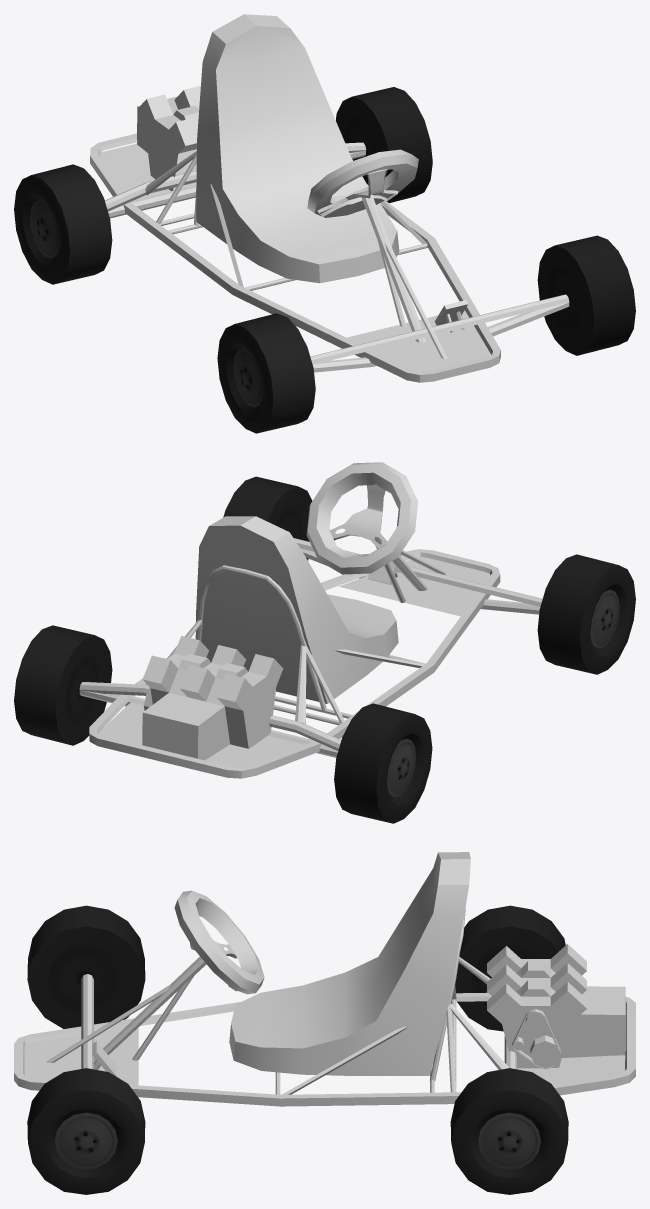
Rendered from lod_0_gltf.gltf.
3 views of the same model, one above another, from view 1: azimuth 30°, elevation 25°; view 2: azimuth 150°, elevation 25°; view 3: azimuth 270°, elevation 25° (orthographic). The views are drawn at different scales.
Visible parts, largest first — view 1: Chasis_0, Wheel_FL_0, Wheel_BR_0, Wheel_FR_0, Wheel_BL_0, rimflat_FR_0, rimflat_BR_0; view 2: Chasis_0, Wheel_BL_0, Wheel_FR_0, Wheel_BR_0, Wheel_FL_0, rimflat_BR_0, rimflat_FR_0; view 3: Chasis_0, Wheel_FR_0, Wheel_FL_0, Wheel_BL_0, Wheel_BR_0, rimflat_FL_0, rimflat_BL_0.
Part boxes in pixels (left/top/right/bottom): Chasis_0: left=90, top=14, right=569, bottom=382; Wheel_FL_0: left=537, top=235, right=635, bottom=355; Wheel_BR_0: left=14, top=164, right=112, bottom=284; Wheel_FR_0: left=217, top=313, right=315, bottom=433; Wheel_BL_0: left=336, top=87, right=432, bottom=203; rimflat_FR_0: left=233, top=348, right=262, bottom=407; rimflat_BR_0: left=30, top=199, right=59, bottom=258; Chasis_0: left=79, top=462, right=542, bottom=778; Wheel_BL_0: left=14, top=625, right=112, bottom=745; Wheel_FR_0: left=537, top=554, right=635, bottom=674; Wheel_BR_0: left=334, top=703, right=432, bottom=823; Wheel_FL_0: left=223, top=476, right=312, bottom=560; rimflat_BR_0: left=387, top=738, right=416, bottom=797; rimflat_FR_0: left=590, top=589, right=619, bottom=648; Chasis_0: left=14, top=852, right=635, bottom=1106; Wheel_FR_0: left=27, top=905, right=145, bottom=1028; Wheel_FL_0: left=27, top=1068, right=145, bottom=1194; Wheel_BL_0: left=450, top=1068, right=568, bottom=1194; Wheel_BR_0: left=455, top=905, right=565, bottom=1031; rimflat_FL_0: left=54, top=1112, right=117, bottom=1169; rimflat_BL_0: left=478, top=1112, right=540, bottom=1169.
Size of the model in its own units: 1.38 by 0.8463 by 1.95.
Materials: 2 (1 with a texture image).
